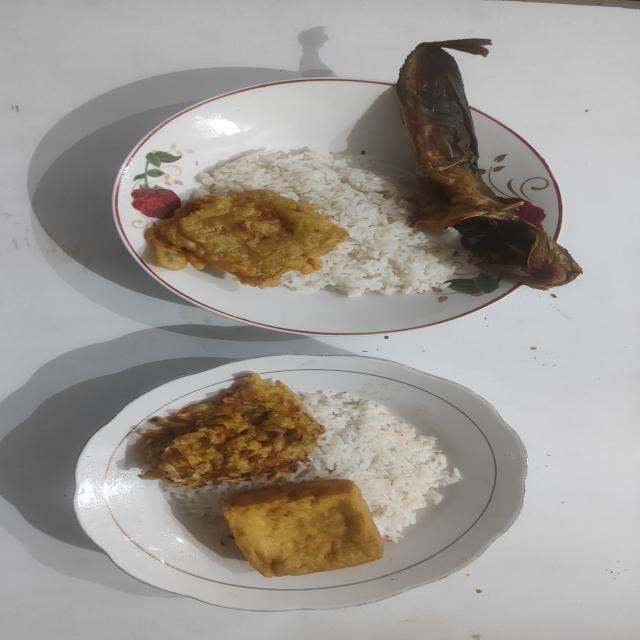nasi_putih: (164, 390, 460, 542), (194, 148, 456, 298)
tahu_goreng: (223, 479, 383, 576)
